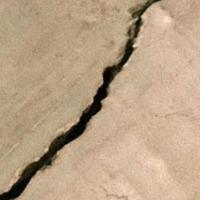crack: (0, 0, 157, 199)
